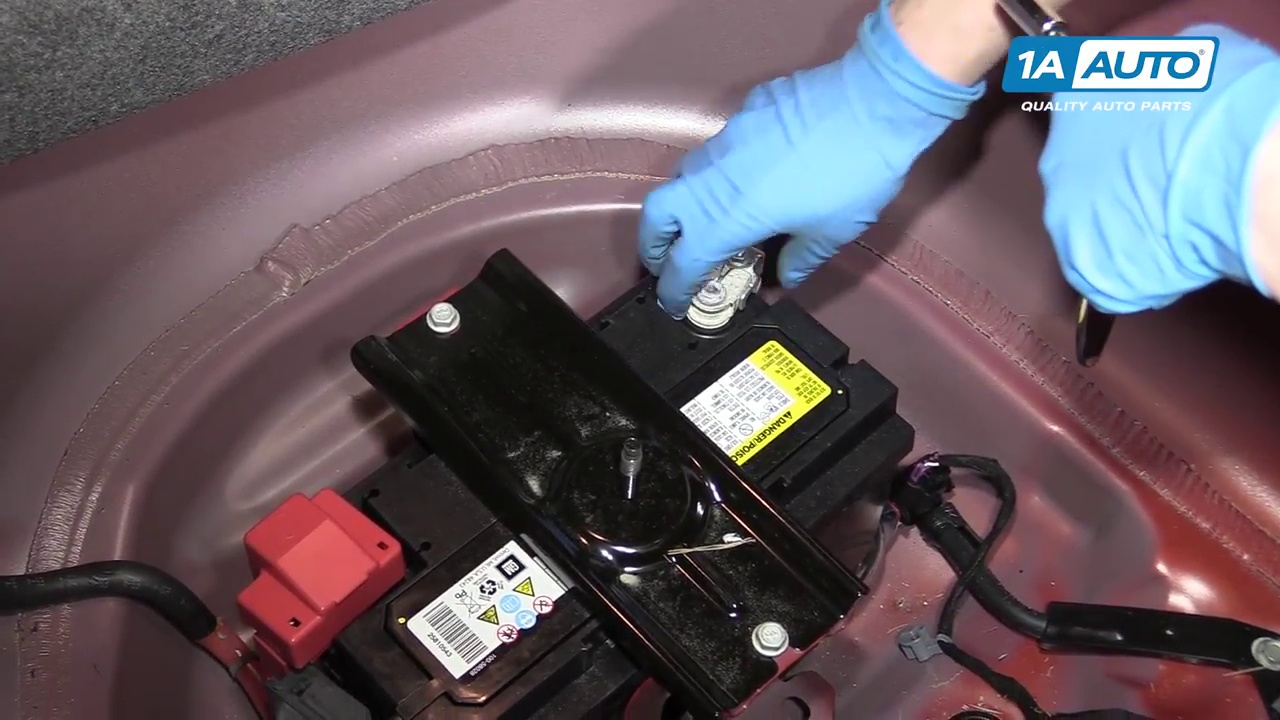battery: (262, 231, 909, 712)
neg_touched: (622, 169, 847, 336)
pos_connected: (212, 461, 420, 669)
